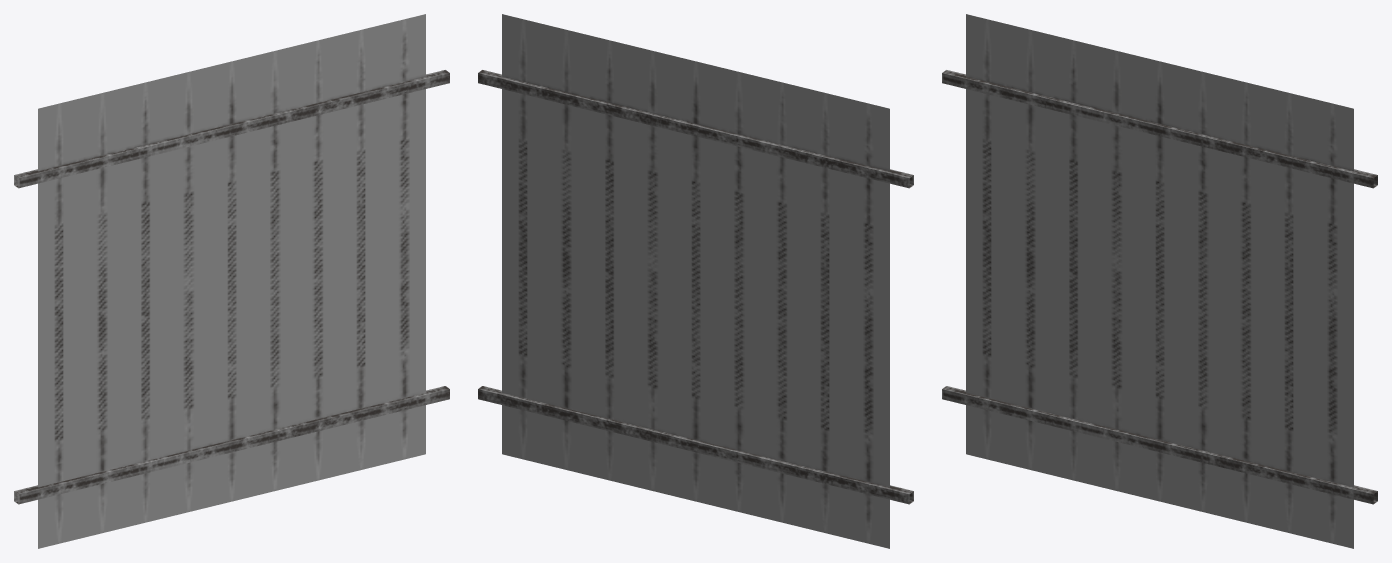
Rendered from Metal Fence 2 half LOD.fbx.
3 views of the same model, side by side, from view 1: azimuth 30°, elevation 25°; view 2: azimuth 150°, elevation 25°; view 3: azimuth 330°, elevation 25° (orthographic).
Visible parts, largest first — view 1: Metal Fence 2 half LOD; view 2: Metal Fence 2 half LOD; view 3: Metal Fence 2 half LOD.
Boxes of the visible parts, x1,y1,x2,y2 form: Metal Fence 2 half LOD: [14, 14, 449, 548]; Metal Fence 2 half LOD: [478, 14, 913, 548]; Metal Fence 2 half LOD: [942, 14, 1377, 548].
Bounding box in the file's own units: 200 × 195 × 3.57.
1 material, 1 textured.
